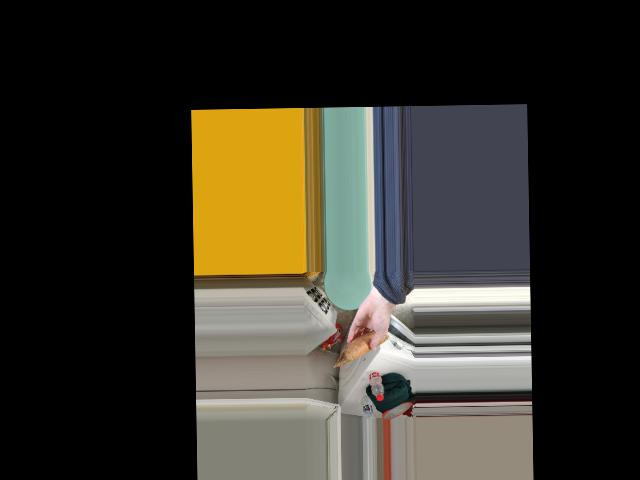sweet_potato: (346, 331, 380, 358)
